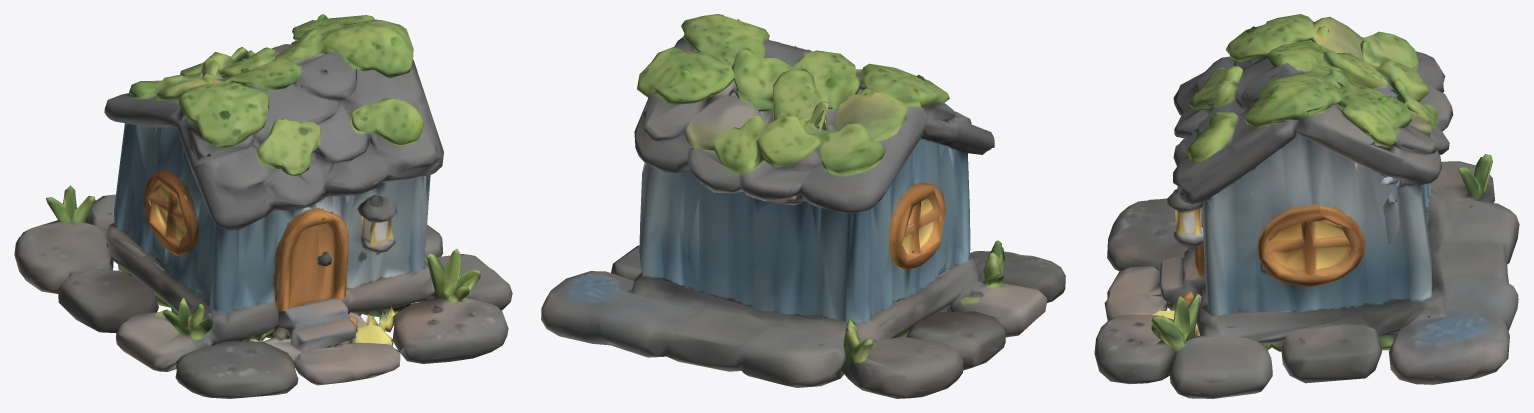
The model's file is low-house-a.glb.
3 views of the same model, side by side, from view 1: azimuth 30°, elevation 25°; view 2: azimuth 150°, elevation 25°; view 3: azimuth 270°, elevation 25° (orthographic). The views are drawn at different scales.
Size of the model in its own units: 3 by 2.01 by 2.82.
1 material, 1 textured.
